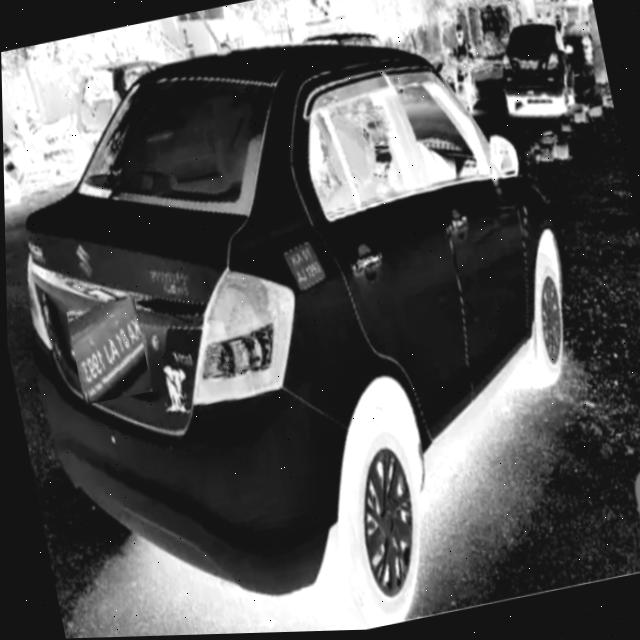Non_registered: (64, 298, 150, 406)
